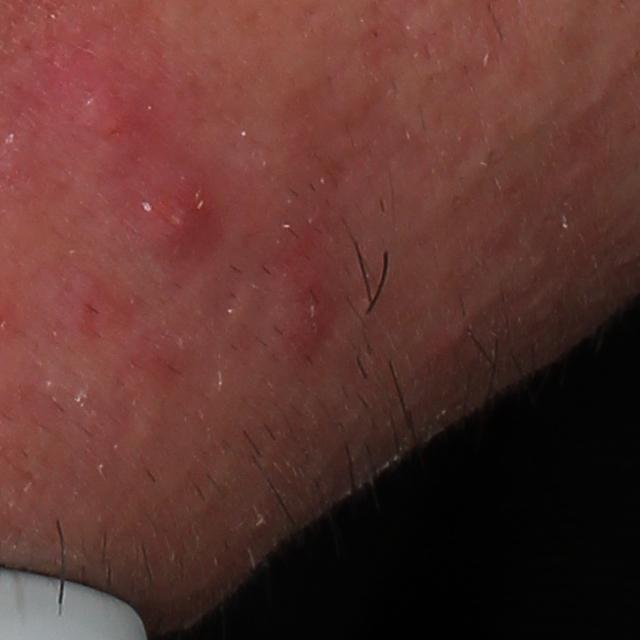papule: (145, 174, 229, 260), (280, 274, 335, 360), (70, 76, 133, 149)
